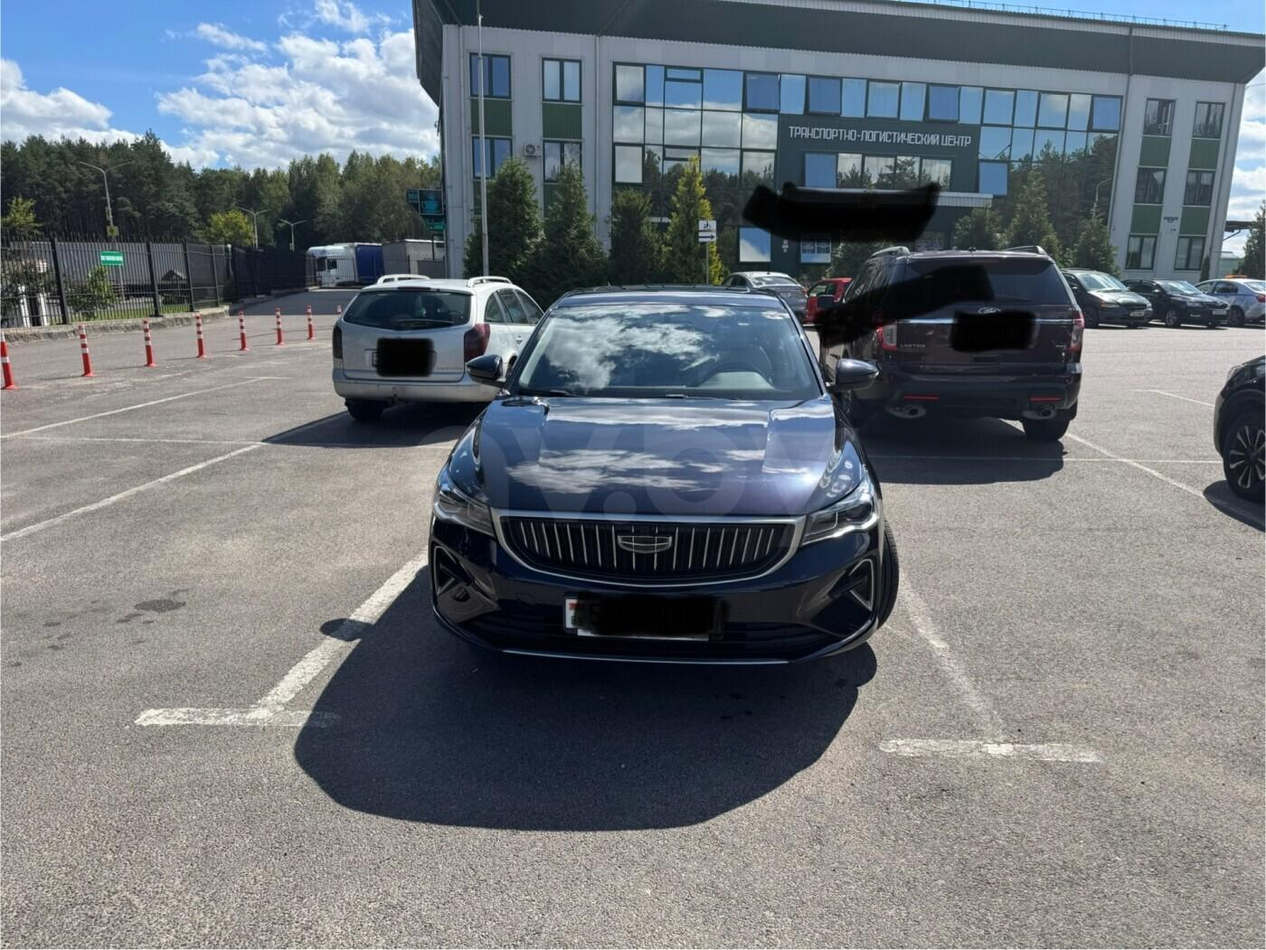Emgrand_2021: (422, 283, 904, 700)
